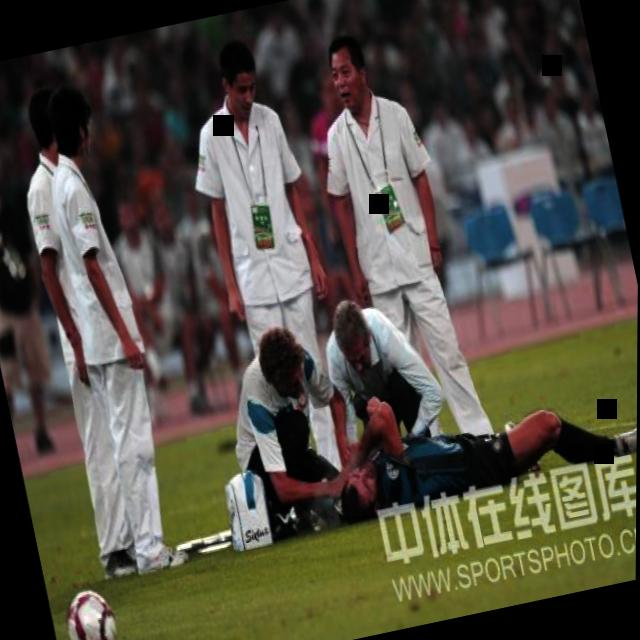Fall-Detected: (306, 350, 638, 528)
